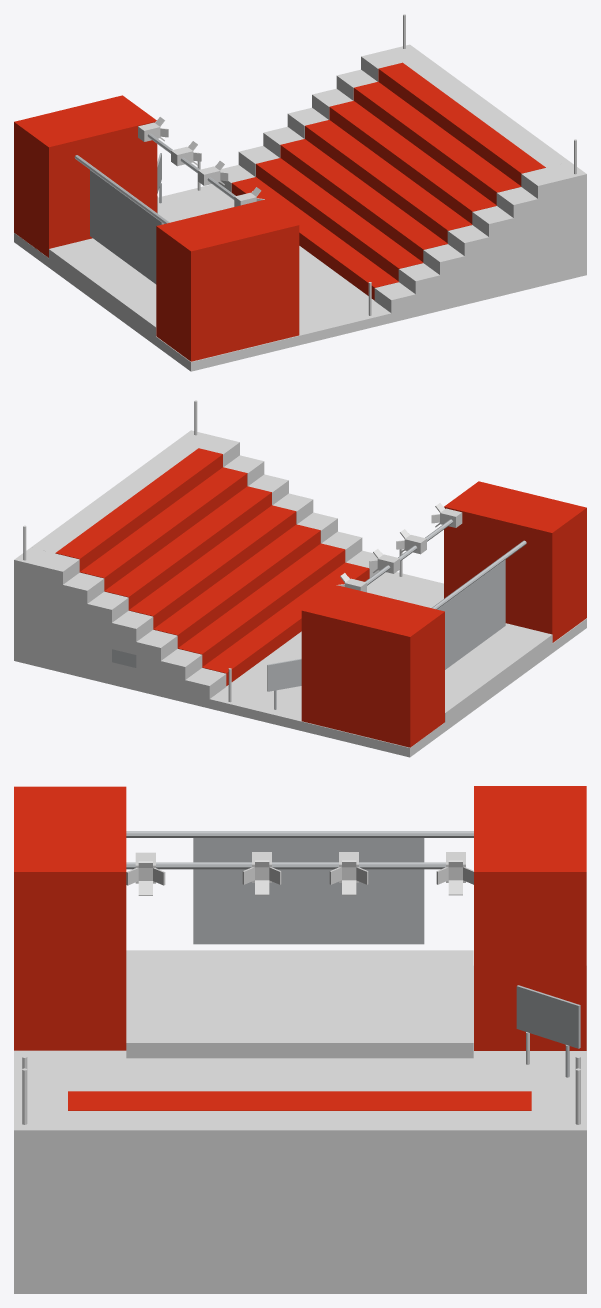
Rendered from Aulan_v1.glb.
The picture shows the model from 3 angles, top to bottom: view 1: azimuth 30°, elevation 25°; view 2: azimuth 150°, elevation 25°; view 3: azimuth 270°, elevation 25°; orthographic projection. The views are drawn at different scales.
Visible parts, largest first — view 1: Cube.002, Cube.004, Cube, Cube.003, Cube.018, Cube.024, Cube.009, Cube.031, Cube.006, Cube.013, Cube.001, Cube.008 (+15 smaller); view 2: Cube.004, Cube.002, Cube, Cube.003, Cube.013, Cube.024, Cube.006, Cube.009, Cube.031, Cube.018, Cube.001, Cube.005 (+16 smaller); view 3: Cube.003, Cube.001, Cube, Cube.002, Cube.004, Cube.008, Cube.031, Cube.007, Cylinder.002, Cylinder.007, Cube.103, Cube.048.
Boxes of the visible parts, x1,y1,x2,y2 form: Cube.002: (156,199,299,361); Cube.004: (14,95,157,257); Cube: (14,184,586,371); Cube.003: (386,44,586,271); Cube.018: (329,101,496,223); Cube.024: (353,82,521,204); Cube.009: (280,139,447,261); Cube.031: (378,62,545,185); Cube.006: (256,158,423,280); Cube.013: (305,120,472,242); Cube.001: (49,238,156,336); Cube.008: (90,170,163,284); Cube.004: (301,585,444,747); Cube.002: (444,481,586,642); Cube: (14,572,586,757); Cube.003: (14,430,214,656); Cube.013: (128,505,296,628); Cube.024: (79,467,247,590); Cube.006: (178,543,345,666); Cube.009: (153,524,320,647); Cube.031: (55,448,222,571); Cube.018: (104,486,271,609); Cube.001: (445,623,552,722); Cube.005: (202,562,369,685); Cube.003: (14,1111,586,1278); Cube.001: (126,950,473,1058); Cube: (14,966,586,1293); Cube.002: (14,786,126,1050); Cube.004: (474,786,586,1050); Cube.008: (193,838,424,944); Cube.031: (68,1091,531,1110); Cube.007: (516,985,580,1048); Cylinder.002: (126,831,473,837); Cylinder.007: (126,862,445,869); Cube.103: (532,1091,586,1110); Cube.048: (14,1091,67,1110).
Size of what is drawn, in the model's own units: 18.98 by 6.17 by 14.69.
